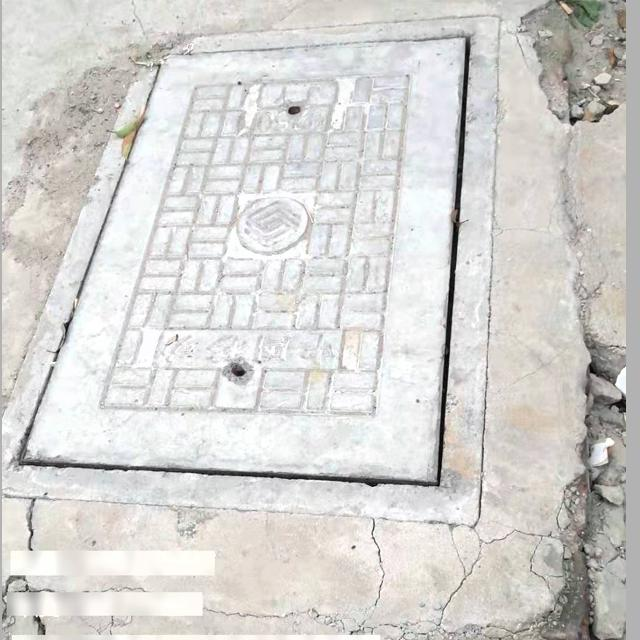good: (2, 14, 498, 524)
